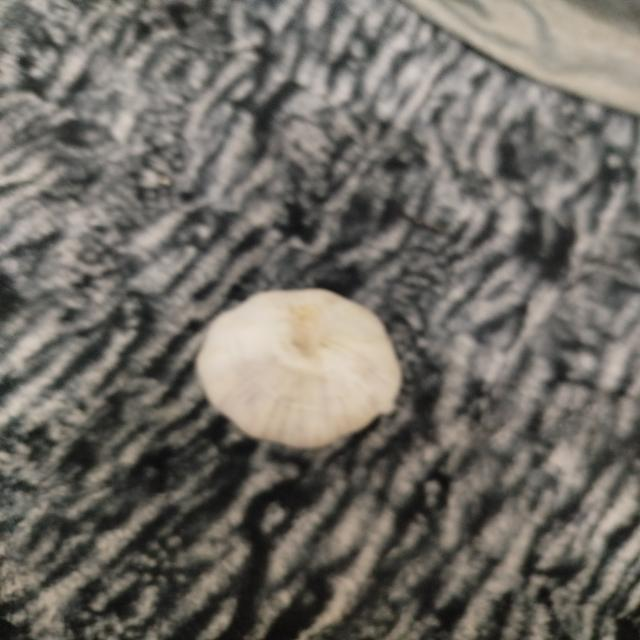garlic: (195, 287, 403, 449)
